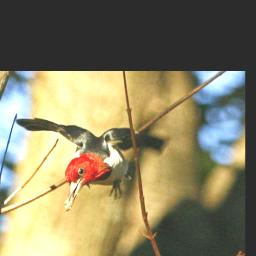Woodpecker: (7, 109, 168, 214)
